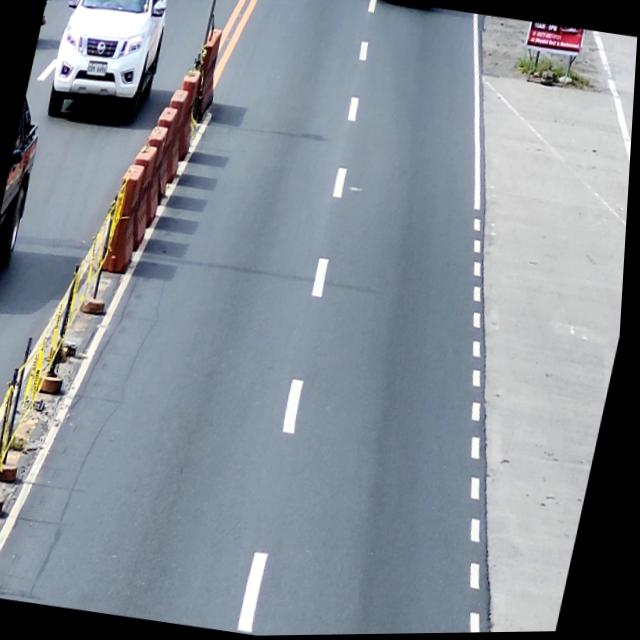Car: (44, 0, 178, 132), (0, 93, 51, 306)
License-Plate: (86, 59, 110, 78)
